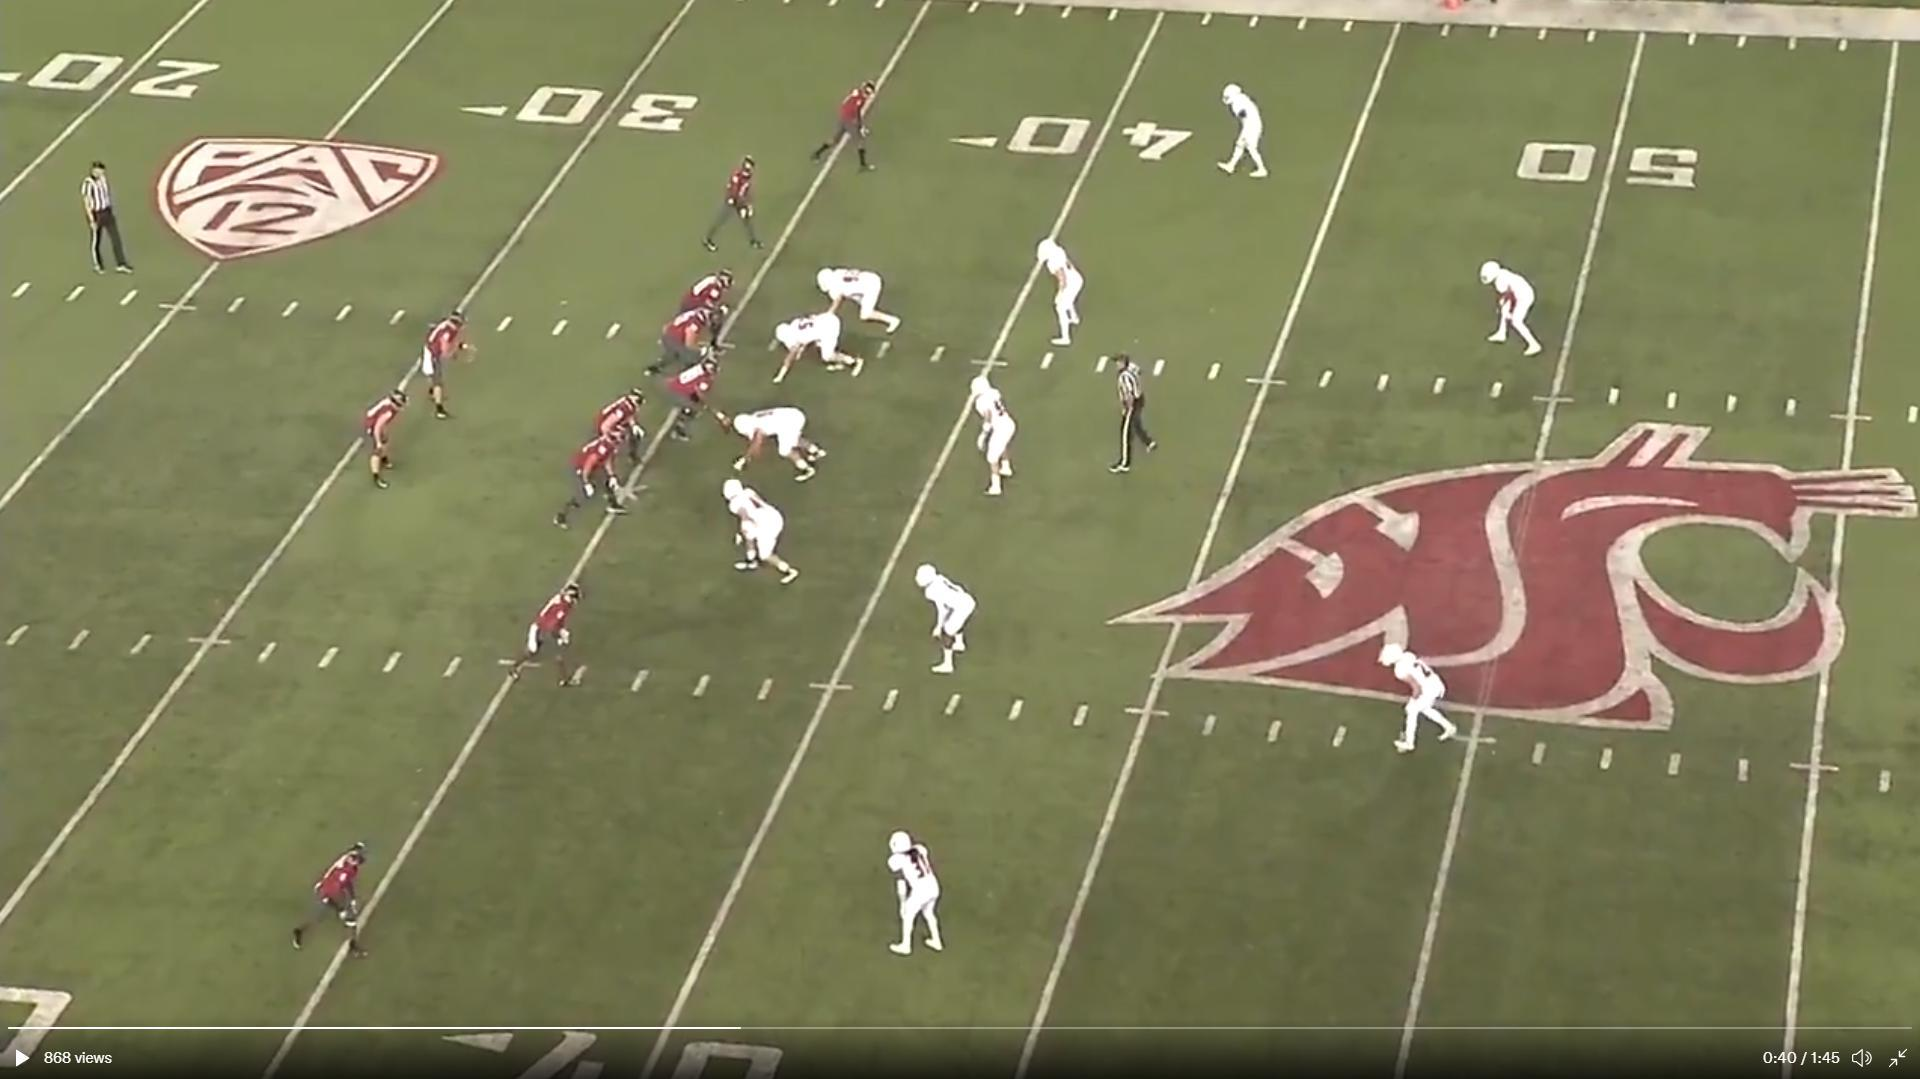player: (280, 836, 371, 958), (718, 476, 803, 592), (885, 827, 952, 967), (1377, 636, 1452, 760), (560, 426, 643, 529), (915, 558, 984, 681), (726, 406, 827, 489), (812, 75, 888, 178), (966, 370, 1021, 506), (770, 312, 867, 388), (1477, 257, 1545, 365), (516, 577, 591, 670), (703, 152, 769, 255), (1035, 233, 1090, 356), (815, 264, 905, 336), (1219, 77, 1279, 183), (659, 362, 733, 447), (421, 308, 473, 423), (651, 300, 723, 383), (676, 268, 738, 359), (362, 387, 412, 497), (593, 387, 654, 452)
ref: (1104, 357, 1157, 483), (82, 160, 135, 279)
